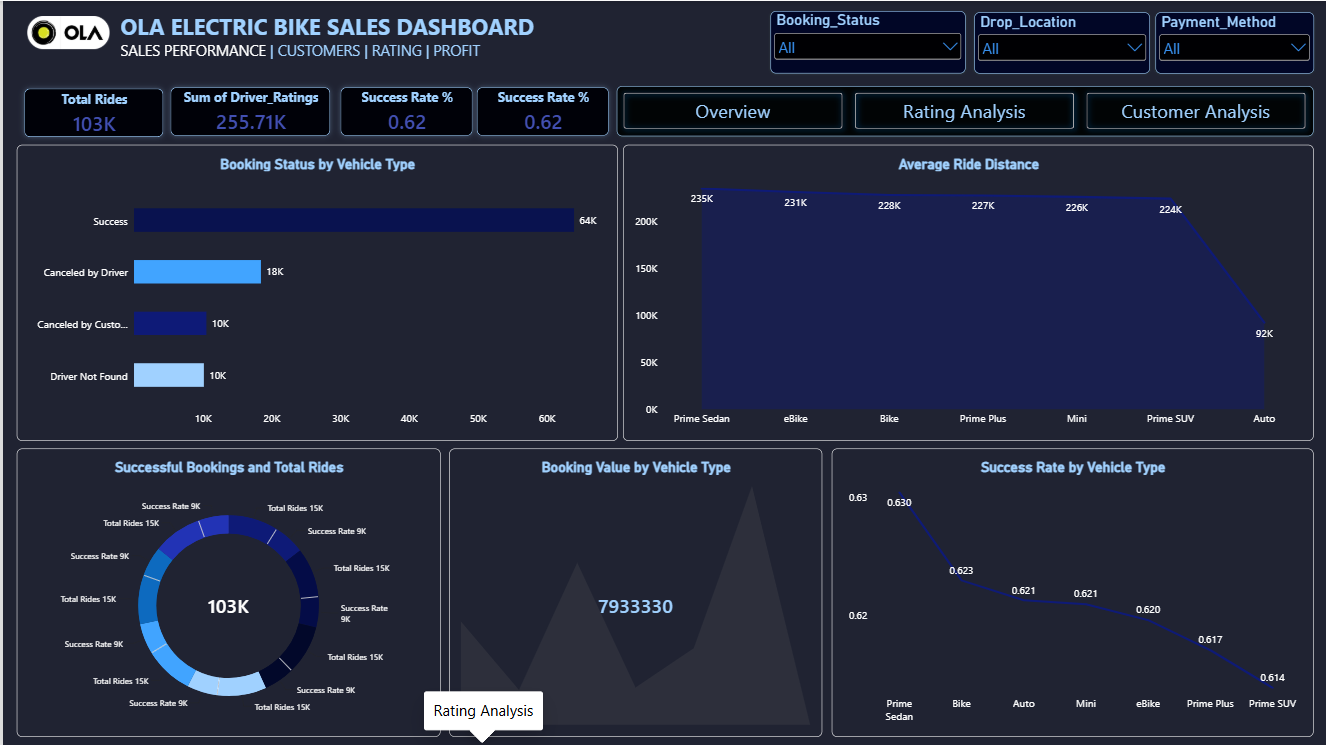

Layout of this report page (visuals, bound fields, positions):
{"tool":"powerbi","page":{"name":"Vehicle Analysis","canvas":[1920,1080],"ordinal":1},"visuals":[{"type":"cardVisual","title":"Driver Rating","fields":{"Data":["Sum(July.Driver_Ratings)"]},"box":[232.5,113.8,253.8,92.5],"z":0},{"type":"slicer","fields":{"Values":["July.Booking_Status"]},"box":[1111.4,14.3,282.1,90],"z":1000},{"type":"slicer","fields":{"Values":["July.Drop_Location"]},"box":[1405.7,15.7,254.3,88.6],"z":2000},{"type":"slicer","fields":{"Values":["July.Payment_Method"]},"box":[1668.6,15.7,229.3,88.6],"z":3000},{"type":"cardVisual","fields":{"Data":["July.Total Rides"]},"box":[20,115,223.8,92.5],"z":4000},{"type":"cardVisual","fields":{"Data":["July.Success Rate %"]},"box":[477.5,113.8,213.8,92.5],"z":5000},{"type":"barChart","title":" Booking Status by Vehicle Type","fields":{"Category":["July.Booking_Status"],"Y":["CountNonNull(July.Vehicle_Type)"]},"box":[20,207.5,870,428.8],"z":6000},{"type":"donutChart","title":"Successful Bookings and Total Rides","fields":{"Category":["July.Vehicle_Type"],"Y":["July.Total Rides","July.Successful Bookings"]},"box":[20,648.8,613.8,417.5],"z":7000},{"type":"areaChart","title":"Average Ride Distance","fields":{"Category":["July.Vehicle_Type"],"Y":["Sum(July.Ride_Distance)"]},"box":[897.5,207.5,1000,428.8],"z":8000},{"type":"lineChart","fields":{"Category":["July.Vehicle_Type"],"Y":["July.Success Rate %"]},"box":[1200,648.8,697.5,417.5],"z":9000},{"type":"textbox","box":[170,14,614,80],"z":10000},{"type":"kpi","title":"Booking Value by Vehicle Type","fields":{"Indicator":["Sum(July.Booking_Value)"],"TrendLine":["July.Vehicle_Type"]},"box":[646.2,648.8,540,417.5],"z":11000},{"type":"image","box":[20,22,150,48],"z":12000},{"type":"pageNavigator","box":[888.8,123.8,1008.8,72.5],"z":13000},{"type":"cardVisual","fields":{"Data":["July.Success Rate %"]},"box":[675,113.8,213.8,92.5],"z":14000}]}

Visuals, with their boxes in screenshot pixels (x1, y1, x2, y2), scaled from the page's 1920x1080 canvas onto the 1326x745 screenshot:
"Driver Rating" cardVisual: 161/79/336/142
slicer - July.Booking_Status: 768/10/962/72
slicer - July.Drop_Location: 971/11/1146/72
slicer - July.Payment_Method: 1152/11/1311/72
cardVisual - July.Total Rides: 14/79/168/143
cardVisual - July.Success Rate %: 330/79/477/142
" Booking Status by Vehicle Type" barChart: 14/143/615/439
"Successful Bookings and Total Rides" donutChart: 14/448/438/736
"Average Ride Distance" areaChart: 620/143/1310/439
lineChart - July.Vehicle_Type x July.Success Rate %: 829/448/1310/736
textbox: 117/10/541/65
"Booking Value by Vehicle Type" kpi: 446/448/819/736
image: 14/15/117/48
pageNavigator: 614/85/1311/135
cardVisual - July.Success Rate %: 466/79/614/142
